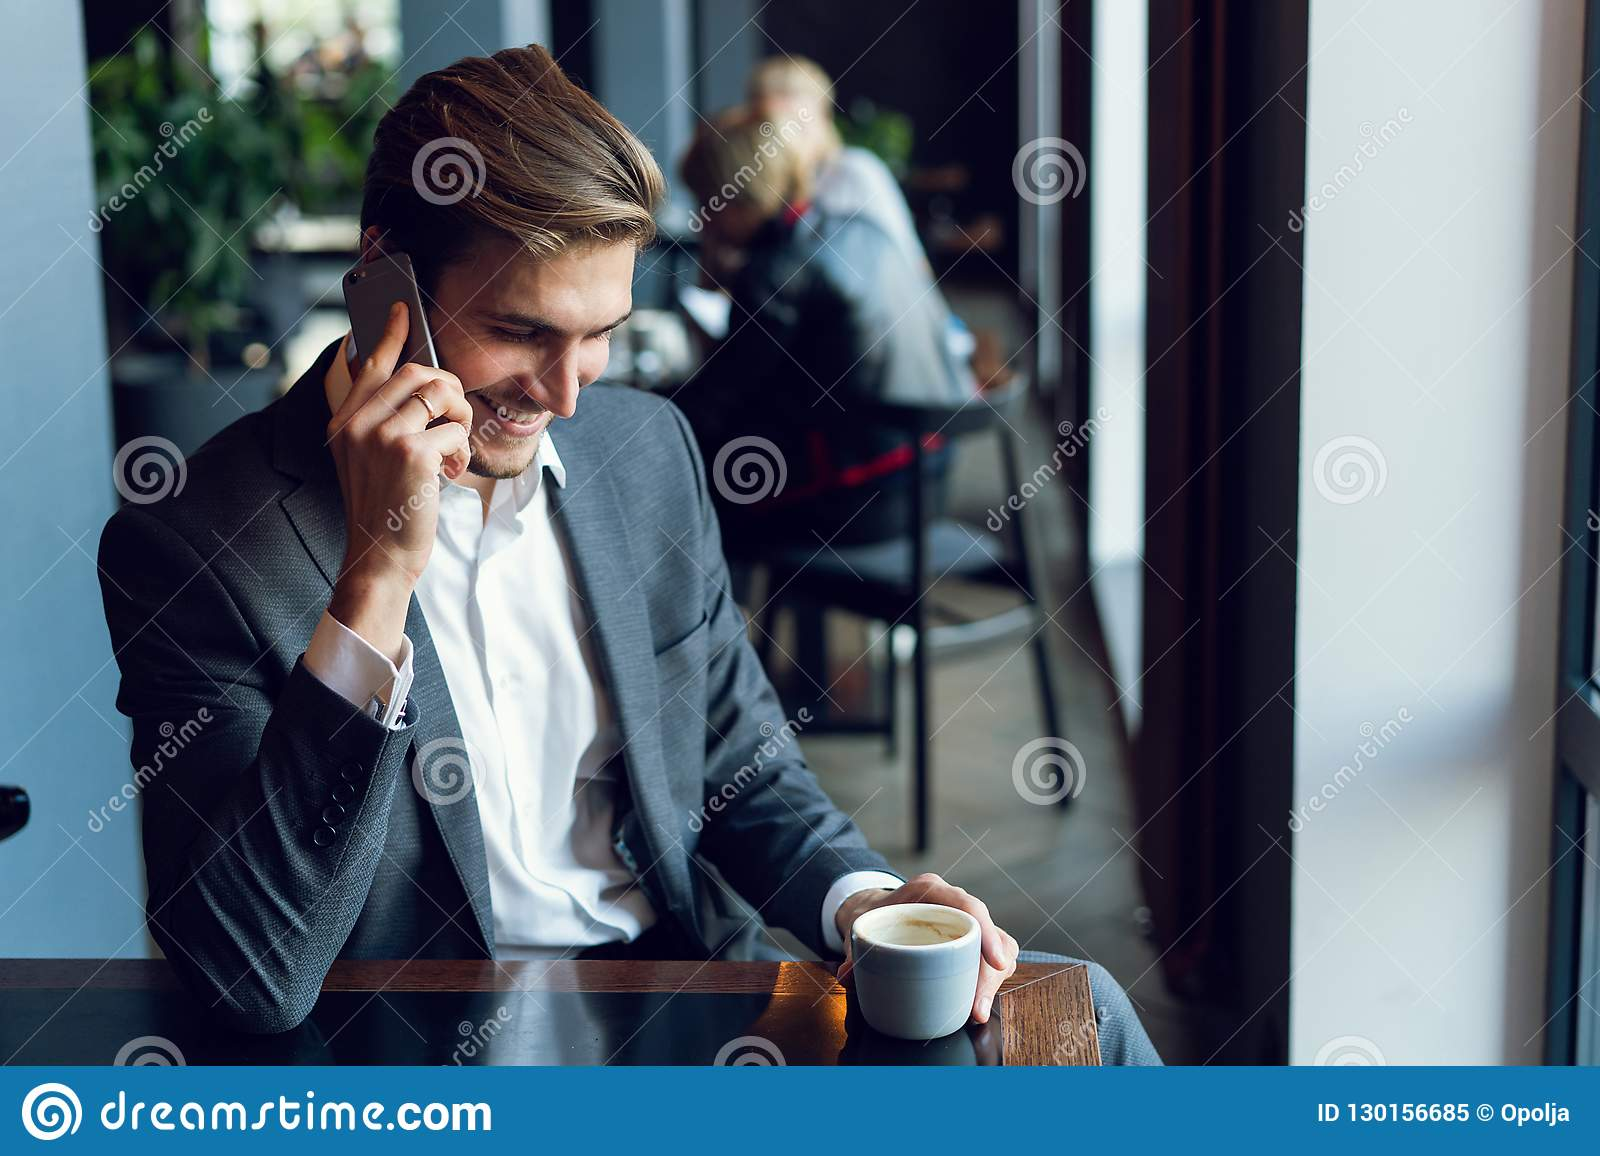phone: (345, 255, 443, 432)
talk: (327, 246, 631, 560)
